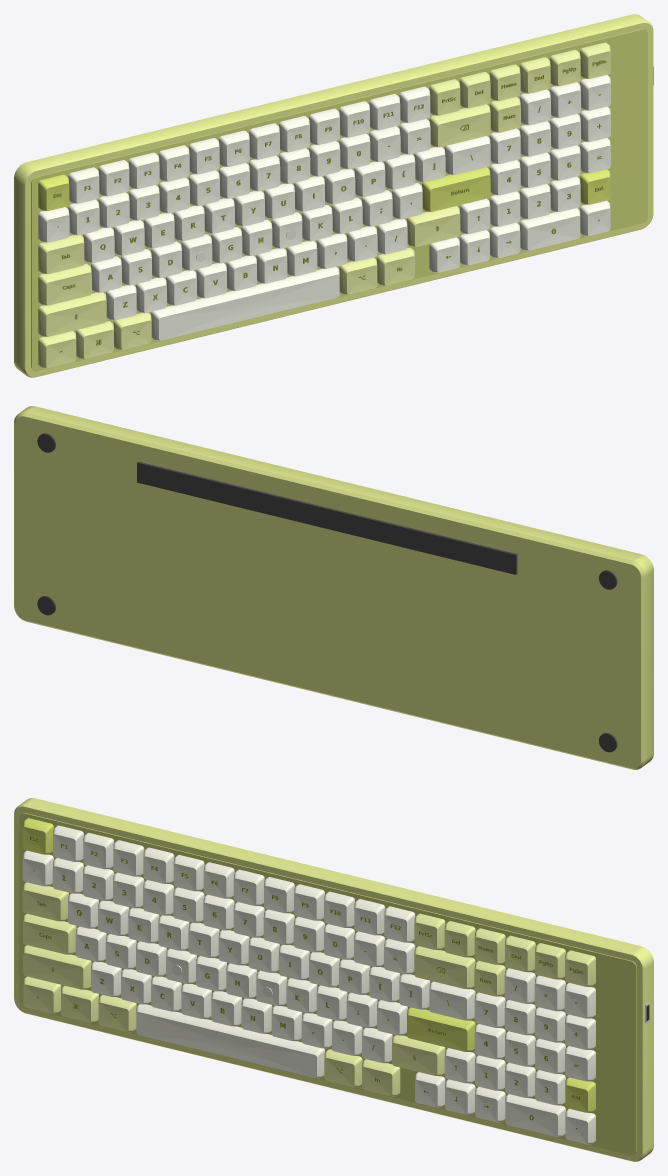
Rendered from flow2_100_volt.glb.
3 views of the same model, one above another, from view 1: azimuth 30°, elevation 25°; view 2: azimuth 150°, elevation 25°; view 3: azimuth 330°, elevation 25° (orthographic).
Visible parts, largest first — view 1: keycaps_alpha, keycaps_mod, case, key_well, keycaps_accent, legends; view 2: case, feet; view 3: keycaps_alpha, keycaps_mod, case, key_well, keycaps_accent, legends.
Boxes of the visible parts, x1=… form: keycaps_alpha: x1=38, y1=75, x2=610, y2=340; keycaps_mod: x1=38, y1=42, x2=610, y2=368; case: x1=14, y1=14, x2=653, y2=377; key_well: x1=31, y1=29, x2=647, y2=371; keycaps_accent: x1=38, y1=167, x2=610, y2=211; legends: x1=53, y1=60, x2=606, y2=352; case: x1=14, y1=406, x2=653, y2=769; feet: x1=37, y1=433, x2=617, y2=752; keycaps_alpha: x1=22, y1=825, x2=595, y2=1144; keycaps_mod: x1=22, y1=882, x2=595, y2=1096; case: x1=14, y1=798, x2=653, y2=1161; key_well: x1=19, y1=813, x2=636, y2=1155; keycaps_accent: x1=23, y1=818, x2=595, y2=1112; legends: x1=30, y1=836, x2=583, y2=1129.
Bounding box in the file's own units: 399 × 126 × 21.51.
